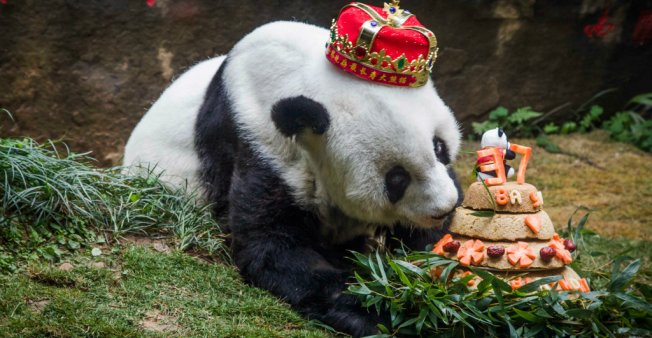panda: (111, 13, 463, 338)
